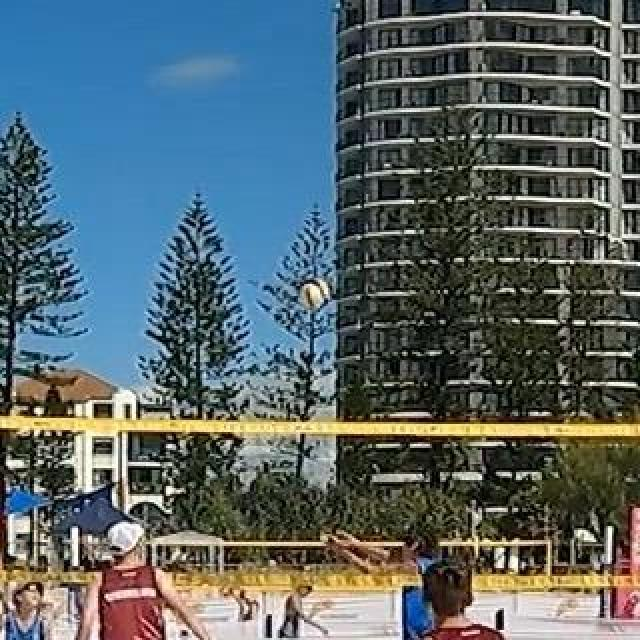volleyball: (300, 282, 326, 308)
